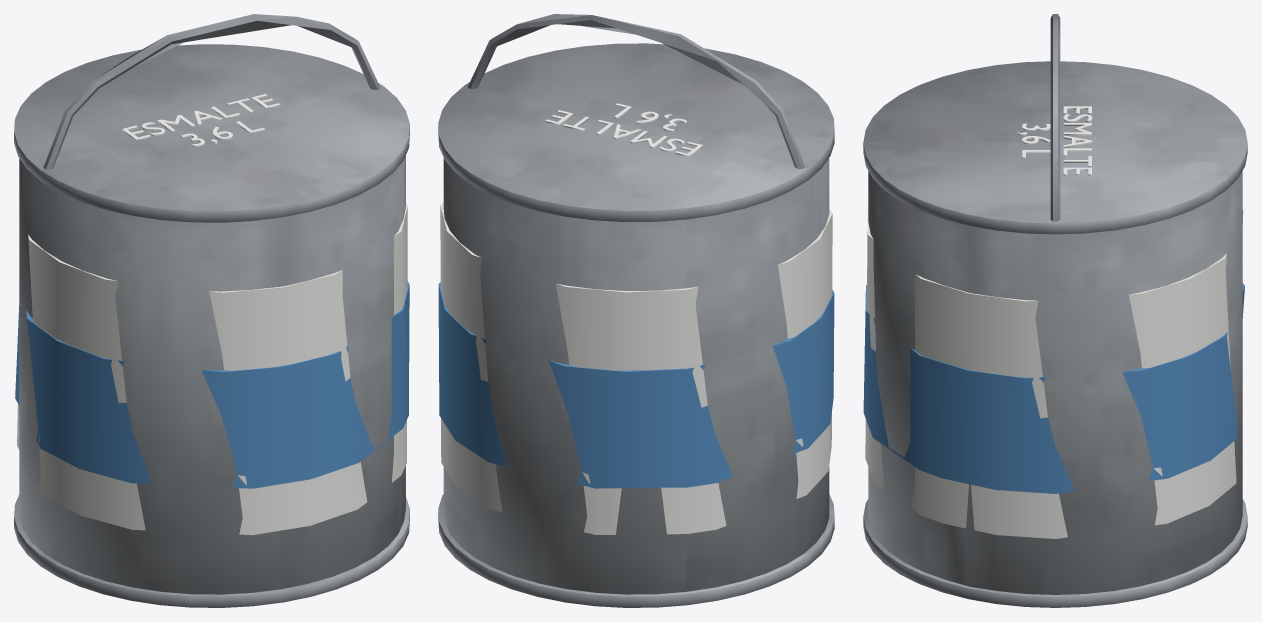
File: PIN-TIN-004_lod1.glb
3 views of the same model, side by side, from view 1: azimuth 30°, elevation 25°; view 2: azimuth 150°, elevation 25°; view 3: azimuth 270°, elevation 25° (orthographic). The views are drawn at different scales.
Parts seen in each view (by area): view 1: PIN-TIN-004_lata, PIN-TIN-004_aro, PIN-TIN-004_rotulo, PIN-TIN-004_amostra, PIN-TIN-004_aro2, PIN-TIN-004_alca, PIN-TIN-004_texto; view 2: PIN-TIN-004_lata, PIN-TIN-004_aro, PIN-TIN-004_amostra, PIN-TIN-004_rotulo, PIN-TIN-004_aro2, PIN-TIN-004_alca, PIN-TIN-004_texto; view 3: PIN-TIN-004_lata, PIN-TIN-004_aro, PIN-TIN-004_rotulo, PIN-TIN-004_amostra, PIN-TIN-004_aro2, PIN-TIN-004_alca, PIN-TIN-004_texto.
Part boxes in pixels (box(x1,y1,x2,y2)): PIN-TIN-004_lata: box(19, 155, 405, 594); PIN-TIN-004_aro: box(14, 44, 409, 222); PIN-TIN-004_rotulo: box(17, 203, 407, 535); PIN-TIN-004_amostra: box(15, 281, 409, 488); PIN-TIN-004_aro2: box(14, 495, 409, 607); PIN-TIN-004_alca: box(43, 14, 380, 169); PIN-TIN-004_texto: box(122, 94, 280, 146); PIN-TIN-004_lata: box(443, 158, 829, 594); PIN-TIN-004_aro: box(438, 43, 834, 221); PIN-TIN-004_amostra: box(438, 282, 834, 488); PIN-TIN-004_rotulo: box(440, 202, 832, 534); PIN-TIN-004_aro2: box(438, 494, 834, 607); PIN-TIN-004_alca: box(468, 14, 805, 168); PIN-TIN-004_texto: box(545, 103, 703, 156); PIN-TIN-004_lata: box(868, 171, 1242, 594); PIN-TIN-004_aro: box(863, 61, 1247, 234); PIN-TIN-004_rotulo: box(865, 209, 1243, 538); PIN-TIN-004_amostra: box(863, 283, 1244, 493); PIN-TIN-004_aro2: box(863, 499, 1247, 607); PIN-TIN-004_alca: box(1050, 14, 1060, 221); PIN-TIN-004_texto: box(1017, 106, 1092, 175).
Size of the model in its own units: 0.1734 by 0.2411 by 0.1734.
4 materials, 1 textured.
